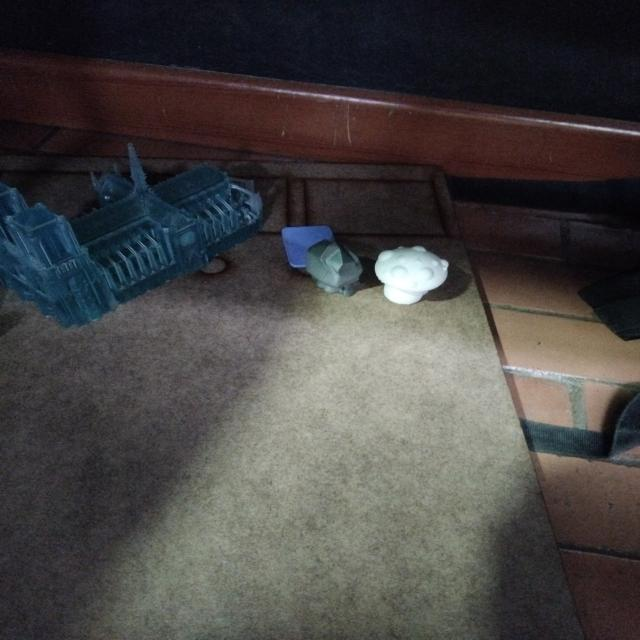Hongo: (369, 240, 454, 308)
